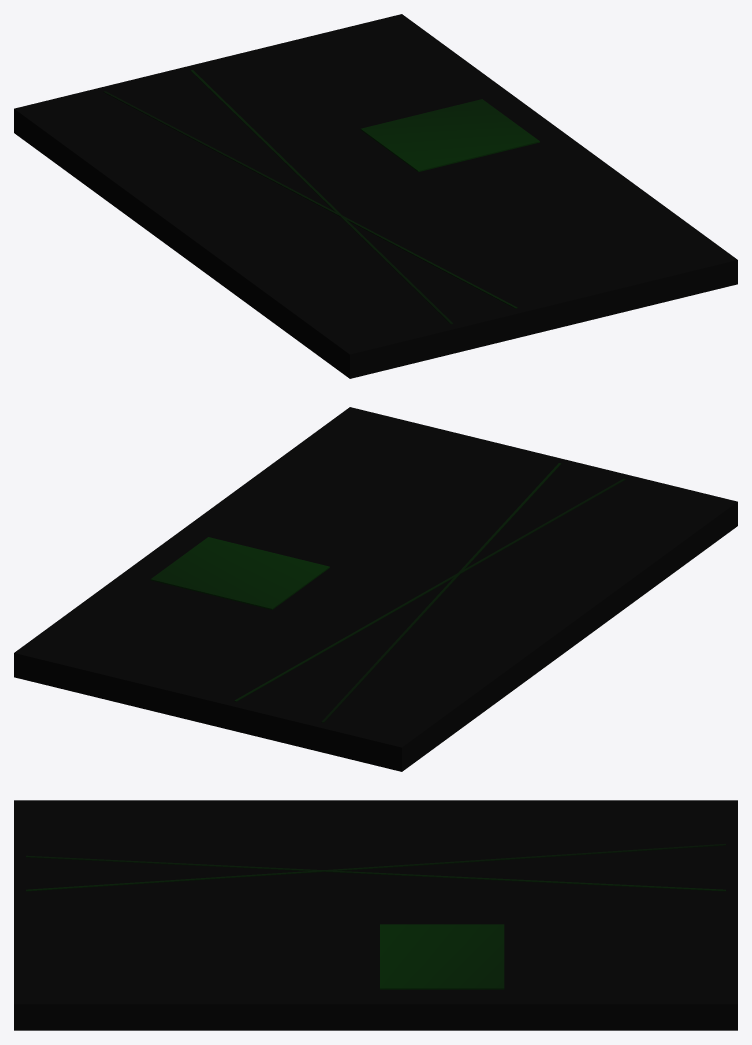
The model's file is hem_straight.mid.glb.
3 views of the same model, one above another, from view 1: azimuth 30°, elevation 25°; view 2: azimuth 150°, elevation 25°; view 3: azimuth 270°, elevation 25° (orthographic). The views are drawn at different scales.
Parts seen in each view (by area): view 1: hem_straight; view 2: hem_straight; view 3: hem_straight.
Boxes of the visible parts, left/top/right/bottom form: hem_straight: left=14, top=14, right=737, bottom=378; hem_straight: left=14, top=407, right=737, bottom=771; hem_straight: left=14, top=800, right=737, bottom=1030.
Bounding box in the file's own units: 2 × 0.126 × 3.
